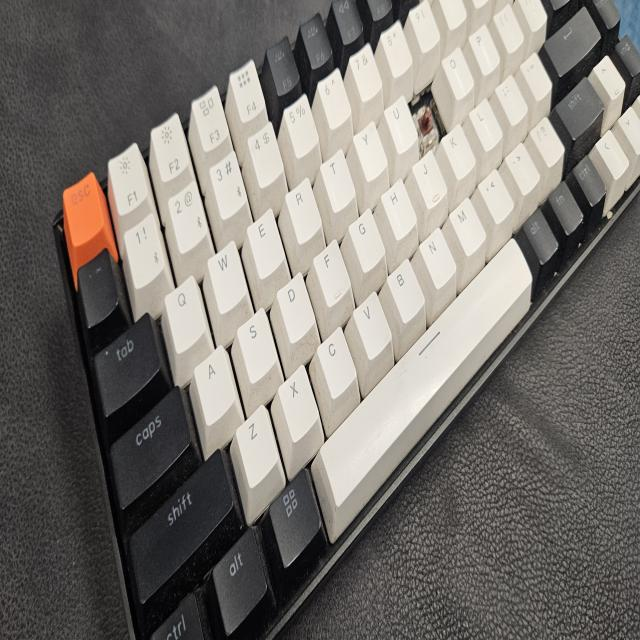C: (415, 90, 439, 144)
